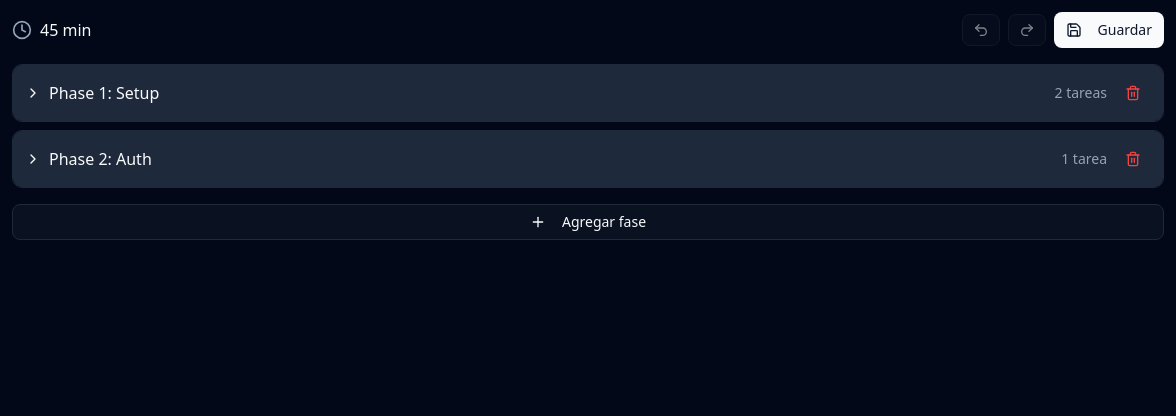
Test: PlanEditor › Visualization › should render tasks within phases
Step 1. Click the button "Phase 1: Setup" → (104, 93), box 25,81 -> 1046,105
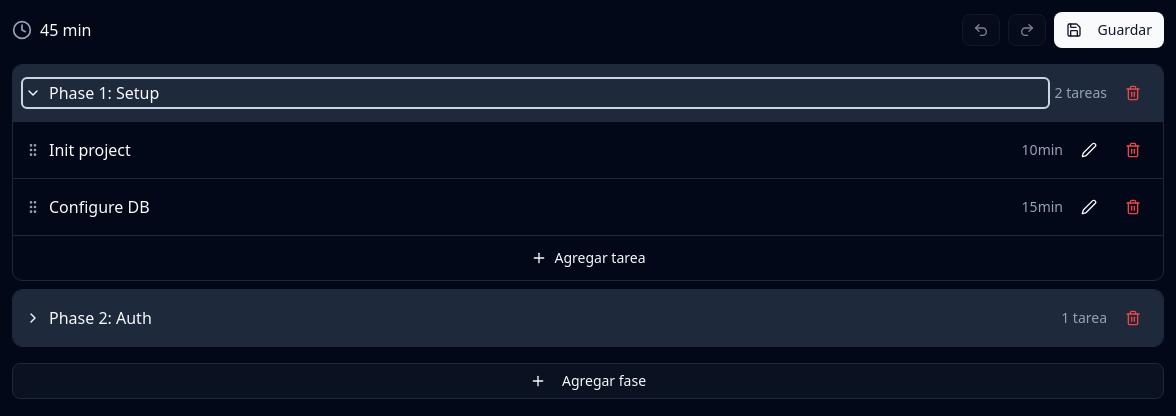
Expected: the text "Init project" is shown, 49,139 -> 131,161
Expected: the text "Configure DB" is shown, 49,196 -> 150,218
